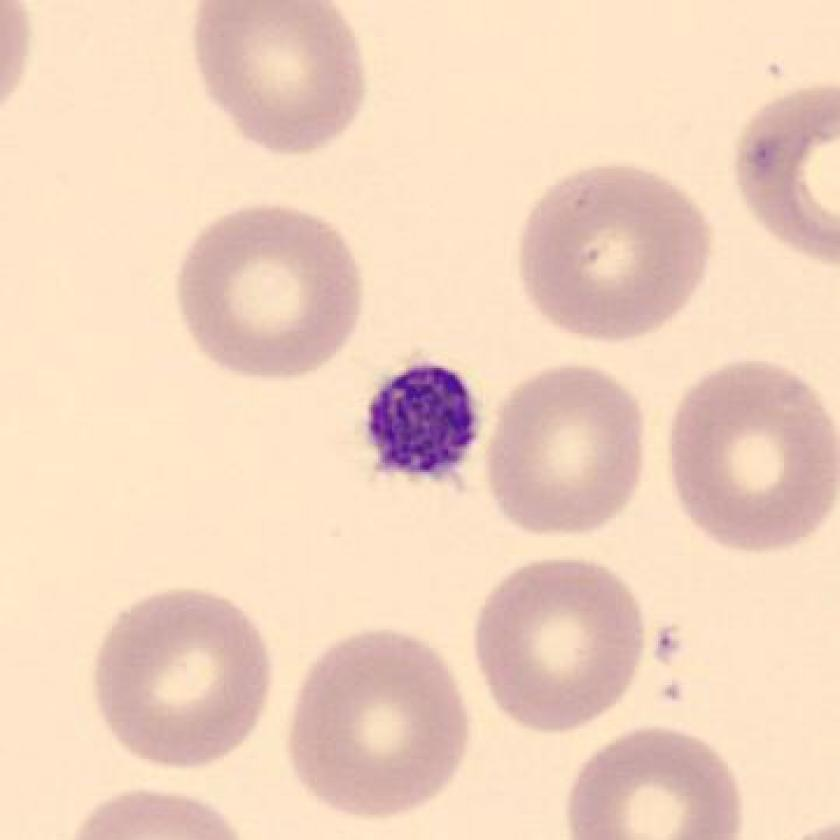platelets: (351, 351, 496, 497)
